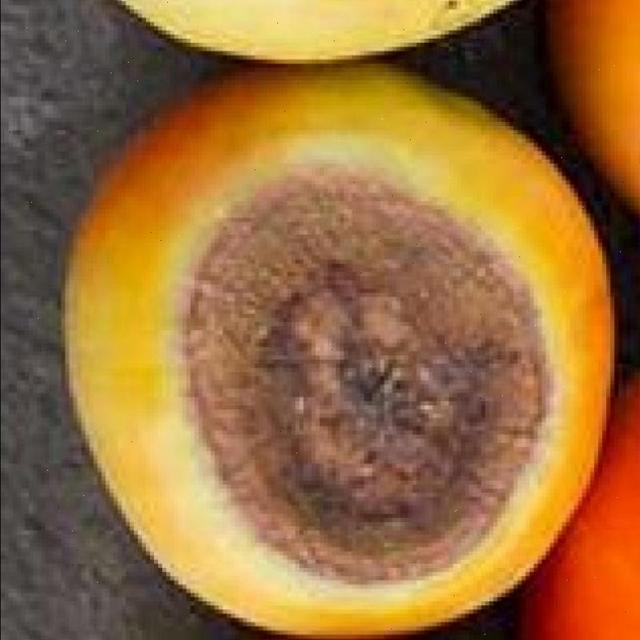Blossom End Rot Fruit: (121, 112, 374, 390)
